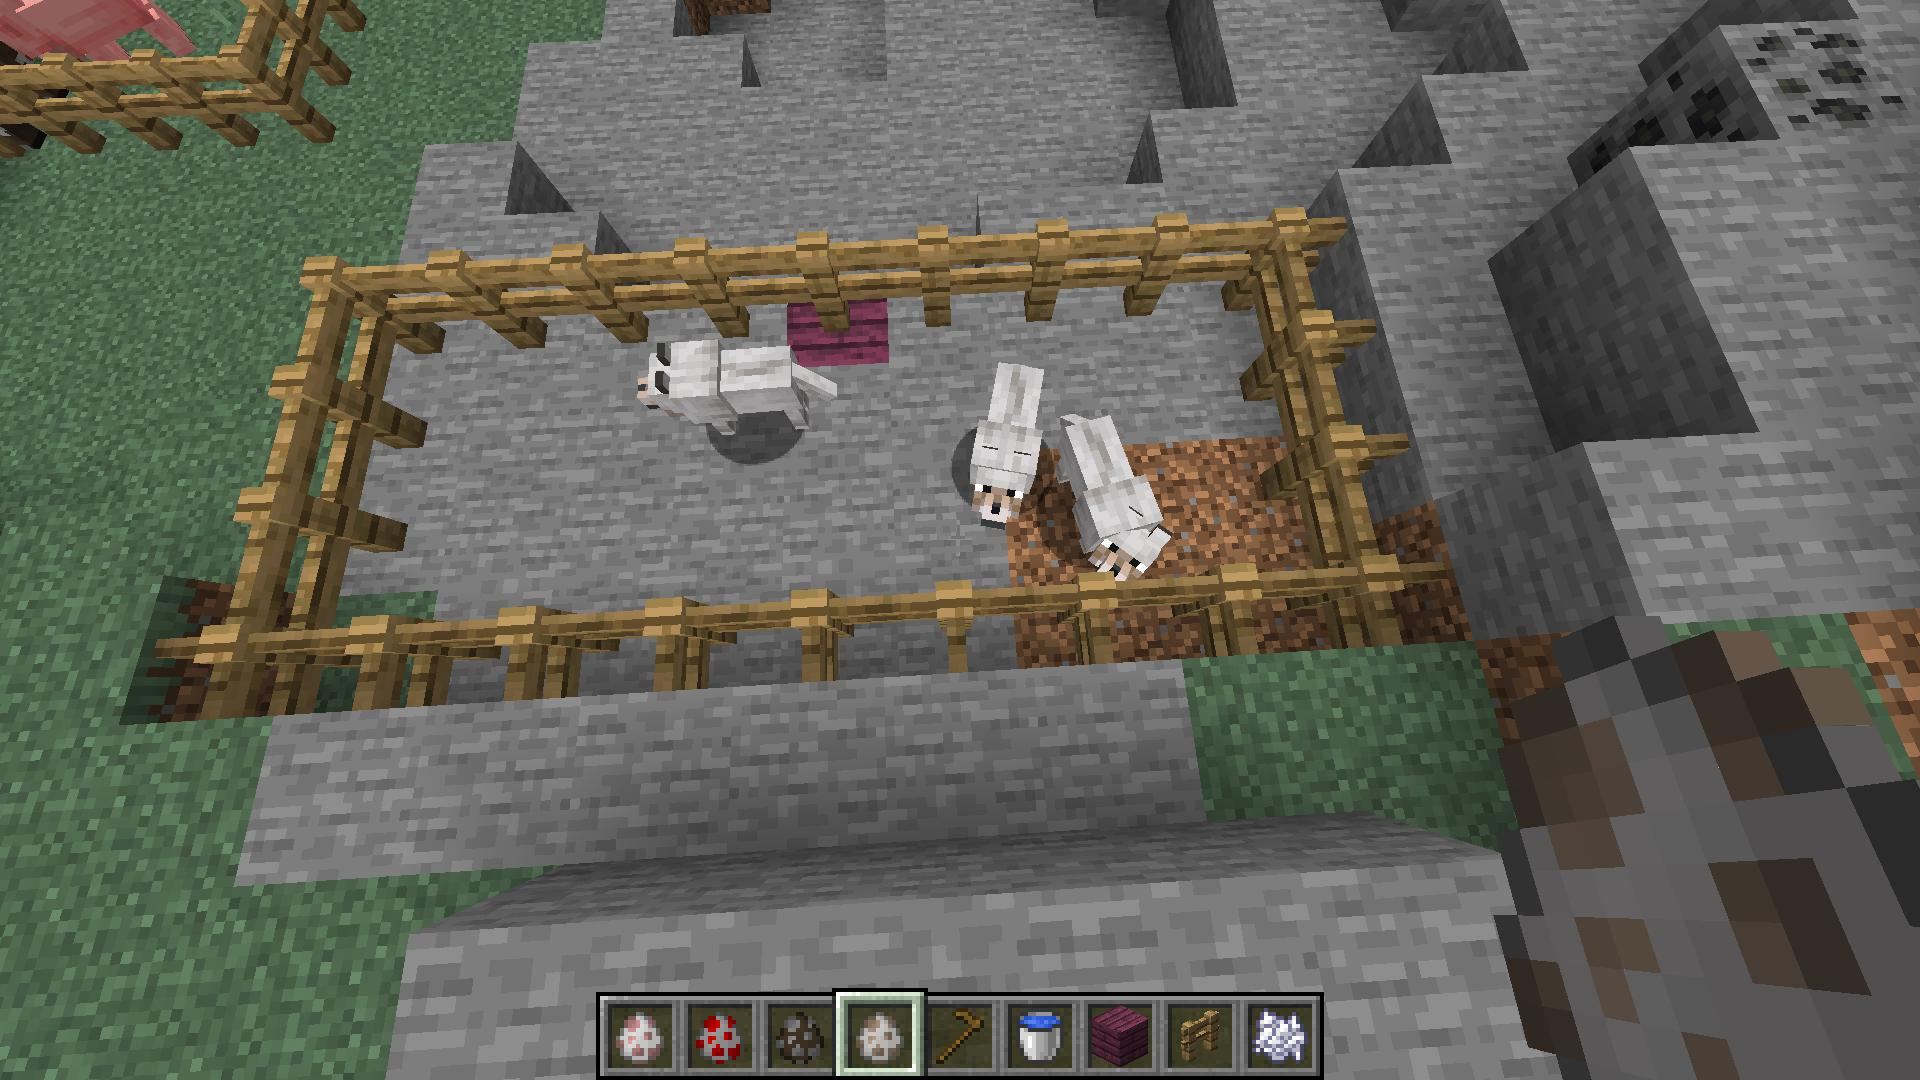wolf: (638, 322, 839, 444), (1062, 402, 1175, 579), (959, 352, 1059, 550)
